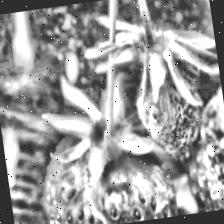Gray Mold: (90, 24, 212, 172)
